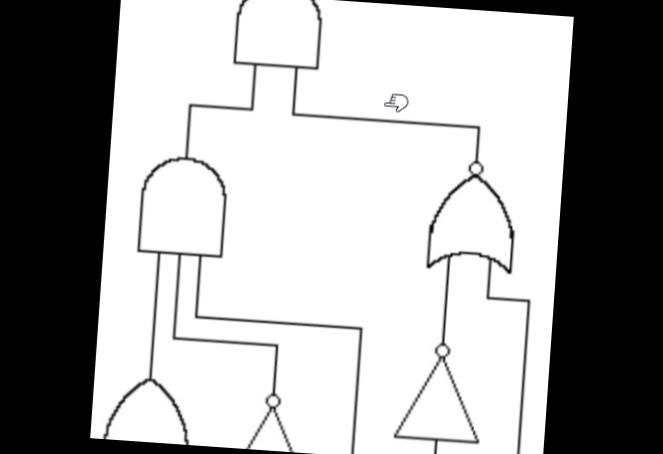and: (131, 150, 236, 266)
nand: (220, 0, 337, 83)
nor: (414, 154, 534, 280)
not: (387, 336, 493, 454), (220, 386, 322, 454)
xor: (99, 368, 198, 444)
